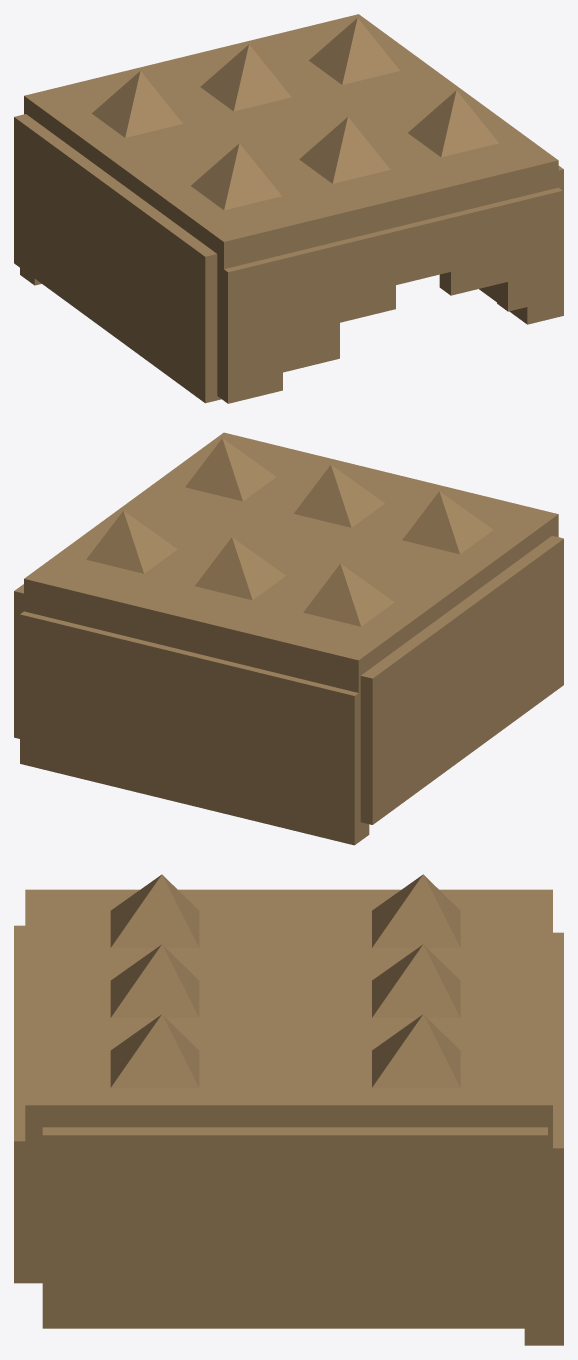
Rendered from hair_spiky.glb.
3 renders of one model, top to bottom at view 1: azimuth 30°, elevation 25°; view 2: azimuth 150°, elevation 25°; view 3: azimuth 270°, elevation 25°, orthographic. The views are drawn at different scales.
Visible parts, largest first — view 1: char_hair_visual; view 2: char_hair_visual; view 3: char_hair_visual.
Boxes of the visible parts, x1,y1,x2,y2 form: char_hair_visual: (14,14,563,403); char_hair_visual: (14,432,563,845); char_hair_visual: (14,874,563,1345).
Size of the model in its own units: 0.628 by 0.379 by 0.6315.
